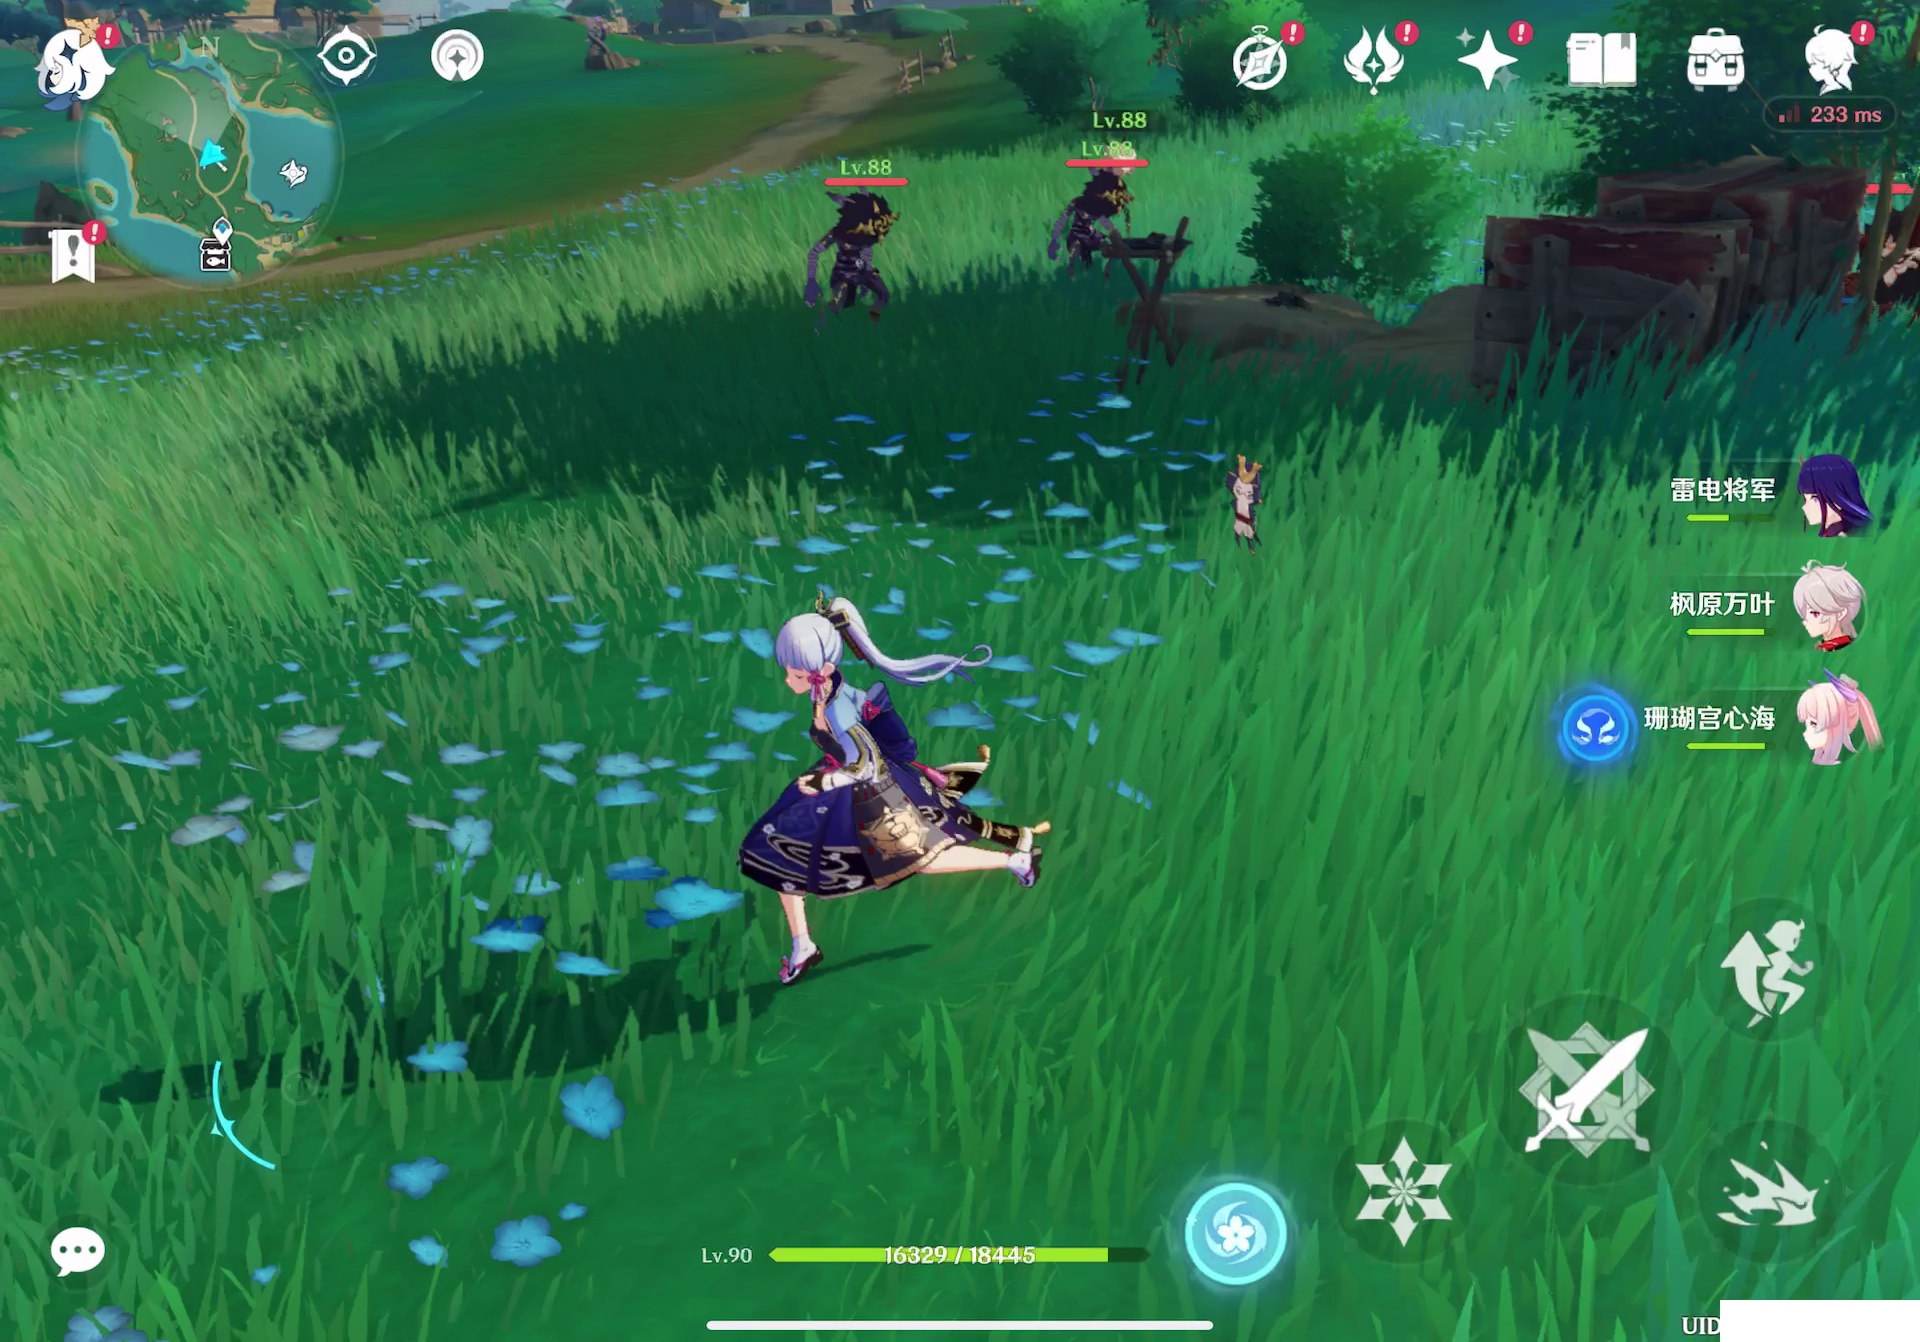丘丘人: (795, 182, 913, 315), (1048, 166, 1142, 276)
神里绫龟: (718, 583, 1033, 969)
